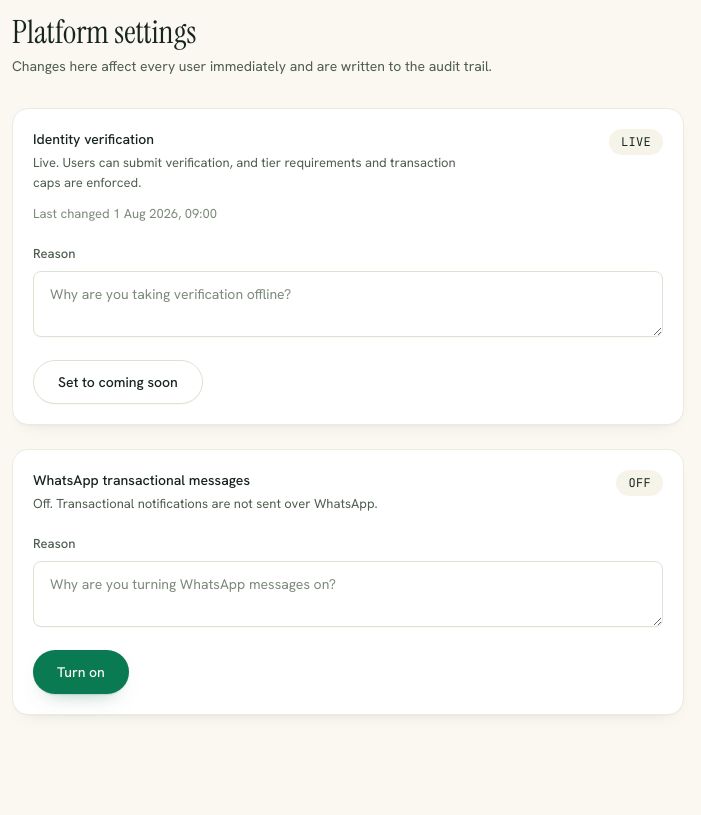
Scenario: AdminSettingsPage › sends the reason and flips the flag to coming soon
Type "Provider integration is not live yet" into the text box labelled "Reason" below "Last changed" at (348,304), box [33,271,663,337]
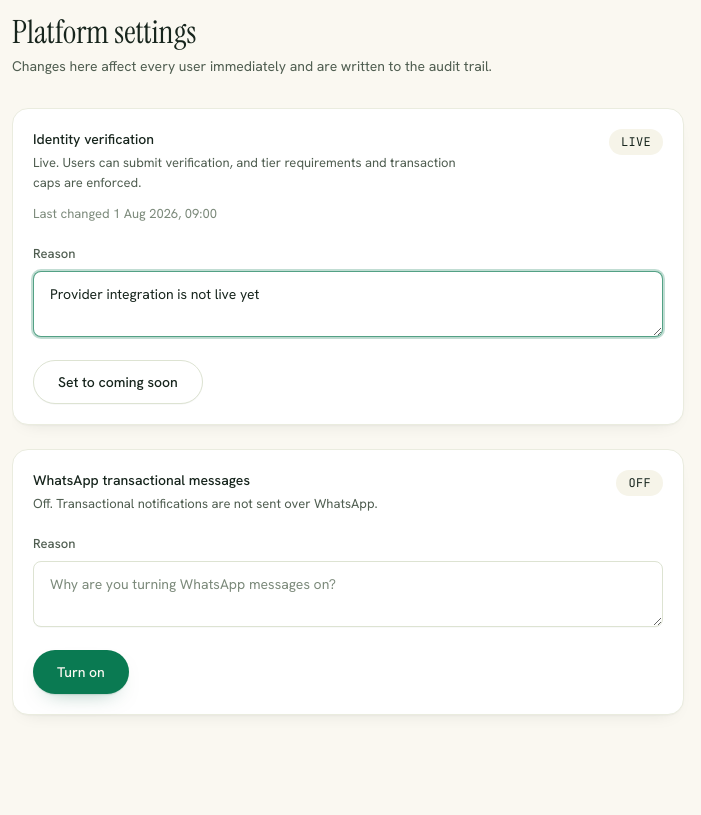
Click the button "Set to coming soon" at (118,382), box [33,360,203,404]
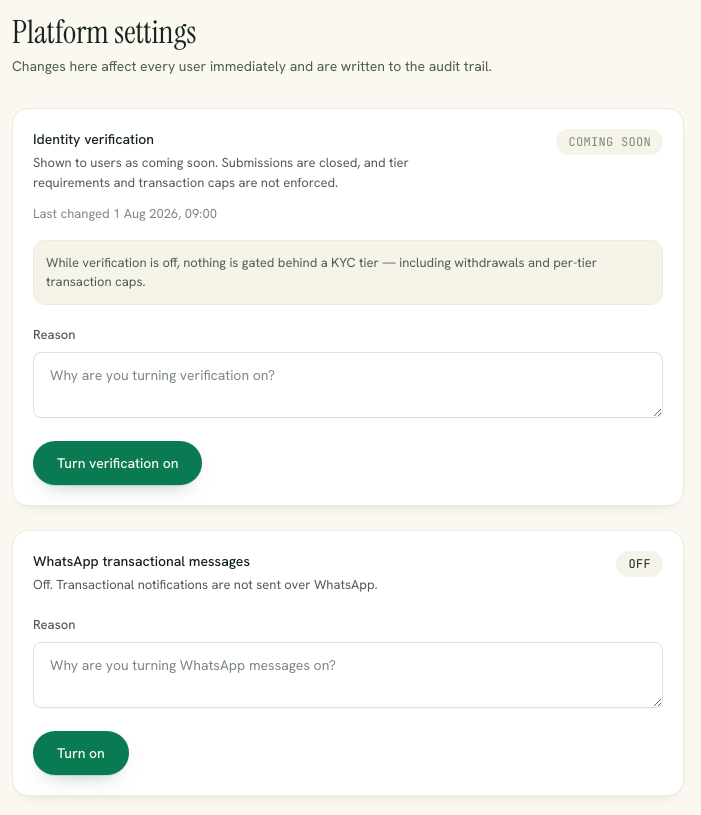
Result: the text "Coming soon" is shown at [556,129,663,155]
